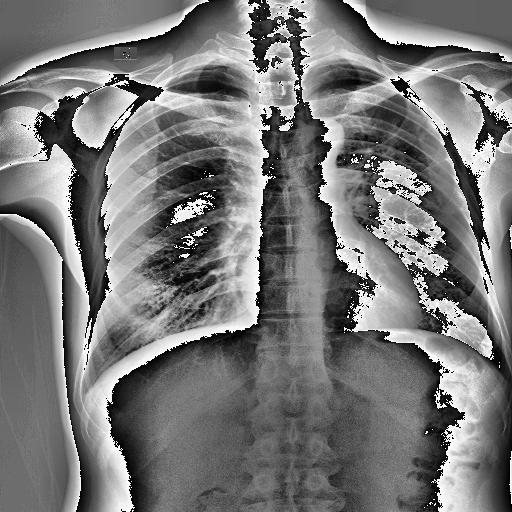13- Pulmonary fibrosis: (350, 120, 448, 190), (416, 190, 442, 209), (419, 158, 451, 171), (418, 128, 428, 141)
6- Infiltration: (338, 124, 420, 182), (420, 192, 441, 207)
8- Nodule-Mass: (420, 189, 442, 208)
